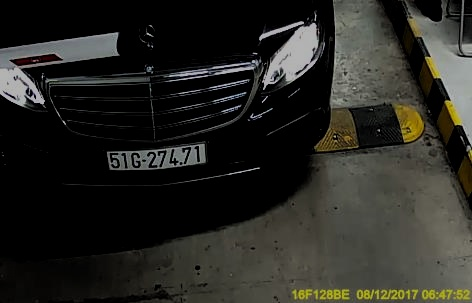plate: (100, 143, 213, 173)
